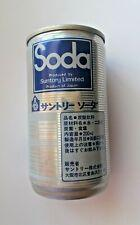metal: (27, 25, 110, 200)
